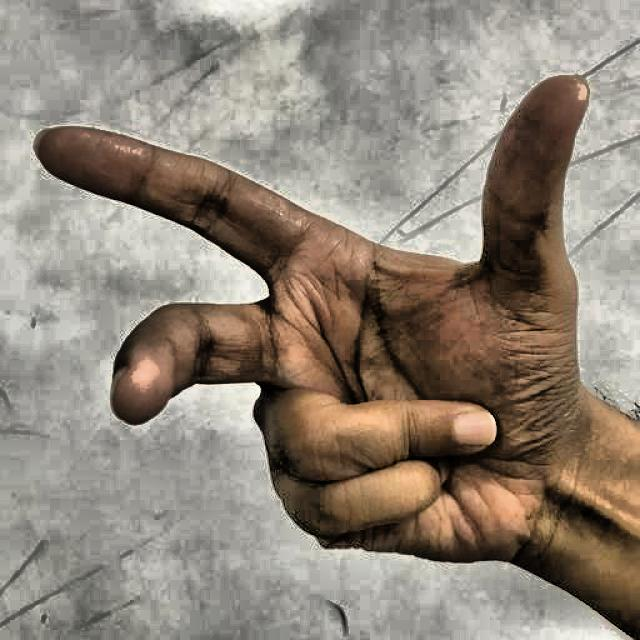Da: (21, 24, 609, 604)
